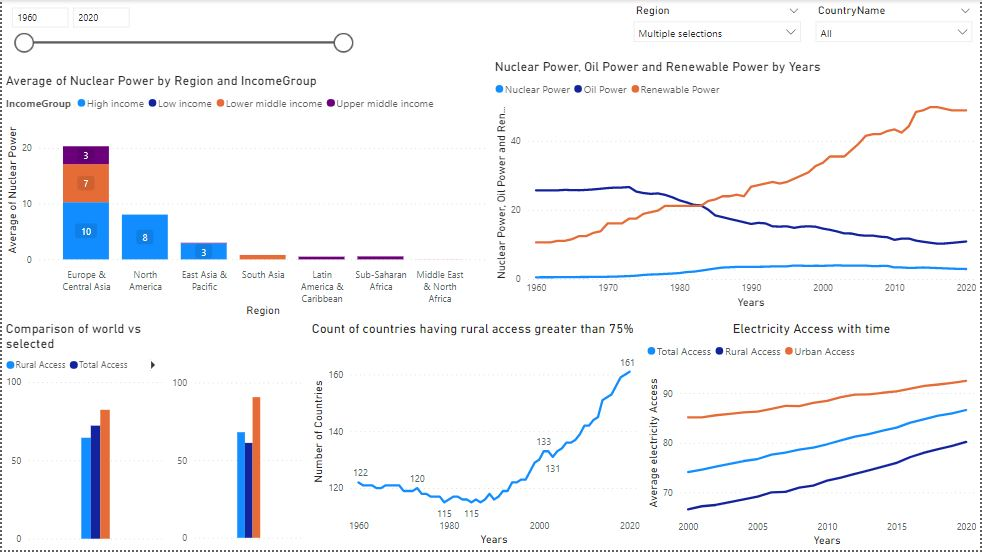

This screenshot's page, from the dashboard's own definition file:
{"tool":"powerbi","page":{"name":"Page 1","canvas":[1280,720],"ordinal":0},"visuals":[{"type":"lineChart","title":"Electricity Access with time","fields":{"Y":["Avg(dataLongForm.Access_to_electricity_of_population)","Avg(dataLongForm.Access_to_electricity_rural_of_rural_population)","Avg(dataLongForm.Access_to_electricity_urban_of_urban_population)"],"Category":["Years.Years"]},"box":[838.8,420,441.2,300],"z":0},{"type":"slicer","fields":{"Values":["Country.CountryName"]},"box":[1055,0,225,77.5],"z":1000},{"type":"slicer","fields":{"Values":["Years.Years"]},"box":[0,0,467.5,77.5],"z":2000},{"type":"lineChart","title":"Count of countries having rural access greater than 75%","fields":{"Category":["Years.Years"],"Y":["dataLongForm.Count rural >75%"]},"box":[400,420,438.8,298.8],"z":3000},{"type":"columnChart","fields":{"Category":["Region.Region"],"Y":["Avg(dataLongForm.Nuclear Power)"],"Series":["Country.IncomeGroup"]},"box":[0,95.7,640,324.3],"z":4000},{"type":"lineChart","fields":{"Category":["Years.Years"],"Y":["Avg(dataLongForm.Nuclear Power)","Avg(dataLongForm.Oil Power)","Avg(dataLongForm.Renewable Sources)"]},"box":[640,77.1,640,331.4],"z":5000},{"type":"slicer","fields":{"Values":["Region.Region"]},"box":[817.1,0,238.6,77.1],"z":6000},{"type":"clusteredColumnChart","title":"Comparison of world vs selected","fields":{"Y":["Avg(dataLongForm.Rural Access)","Avg(dataLongForm.Total Access)","Avg(dataLongForm.Urban Access)"]},"box":[0,420,217.1,298.6],"z":7000},{"type":"clusteredColumnChart","fields":{"Y":["Avg(dataLongForm.Rural Access)","Avg(dataLongForm.Total Access)","Avg(dataLongForm.Urban Access)"],"Category":["Country.CountryName","Country.CountryName"]},"box":[217.1,487.1,182.9,231.4],"z":8000}]}

Visuals, with their boxes in screenshot pixels (x1, y1, x2, y2), scaled from the page's 1280x720 canvas onto the 982x552 screenshot:
"Electricity Access with time" lineChart: left=644, top=322, right=981, bottom=551
slicer - Country.CountryName: left=809, top=0, right=981, bottom=59
slicer - Years.Years: left=0, top=0, right=359, bottom=59
"Count of countries having rural access greater than 75%" lineChart: left=307, top=322, right=644, bottom=551
columnChart - Region.Region x Avg(dataLongForm.Nuclear Power): left=0, top=73, right=491, bottom=322
lineChart - Years.Years x Avg(dataLongForm.Nuclear Power): left=491, top=59, right=981, bottom=313
slicer - Region.Region: left=627, top=0, right=810, bottom=59
"Comparison of world vs selected" clusteredColumnChart: left=0, top=322, right=167, bottom=551
clusteredColumnChart - Avg(dataLongForm.Rural Access) x Avg(dataLongForm.Total Access): left=167, top=373, right=307, bottom=551
